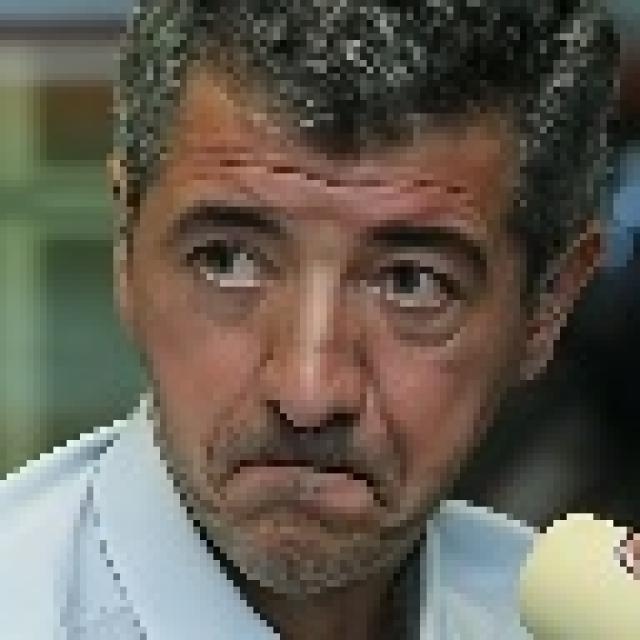angry: (80, 0, 586, 633)
